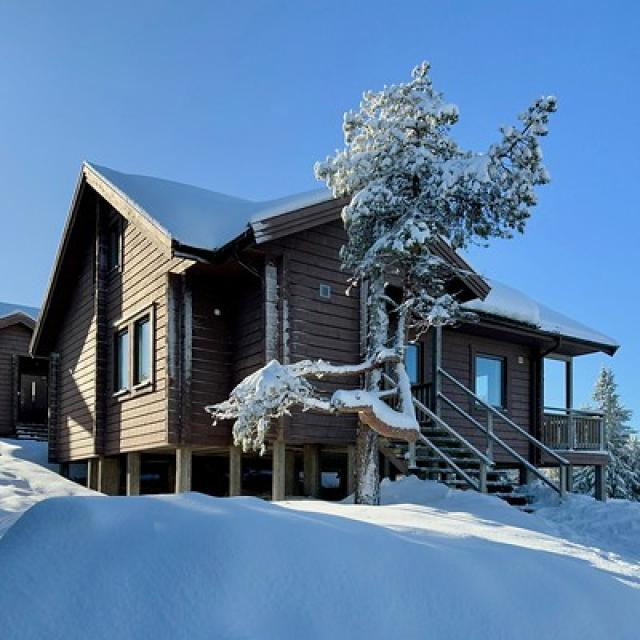building: (28, 151, 622, 508)
